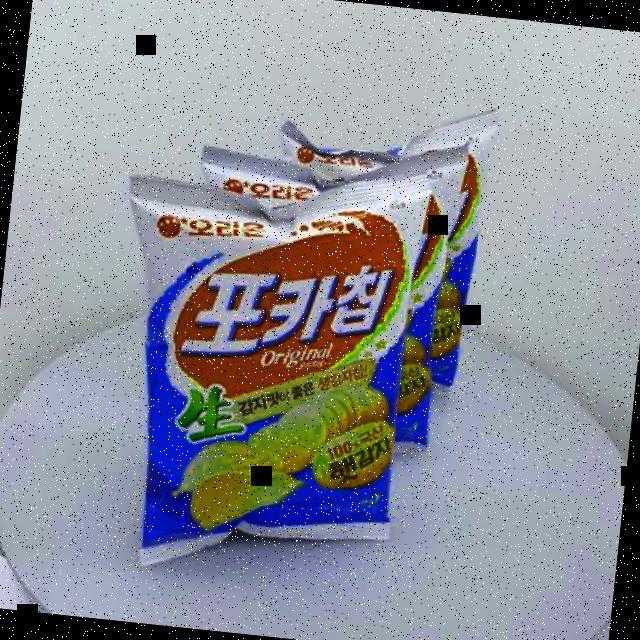snack_bag: (62, 32, 517, 616)
